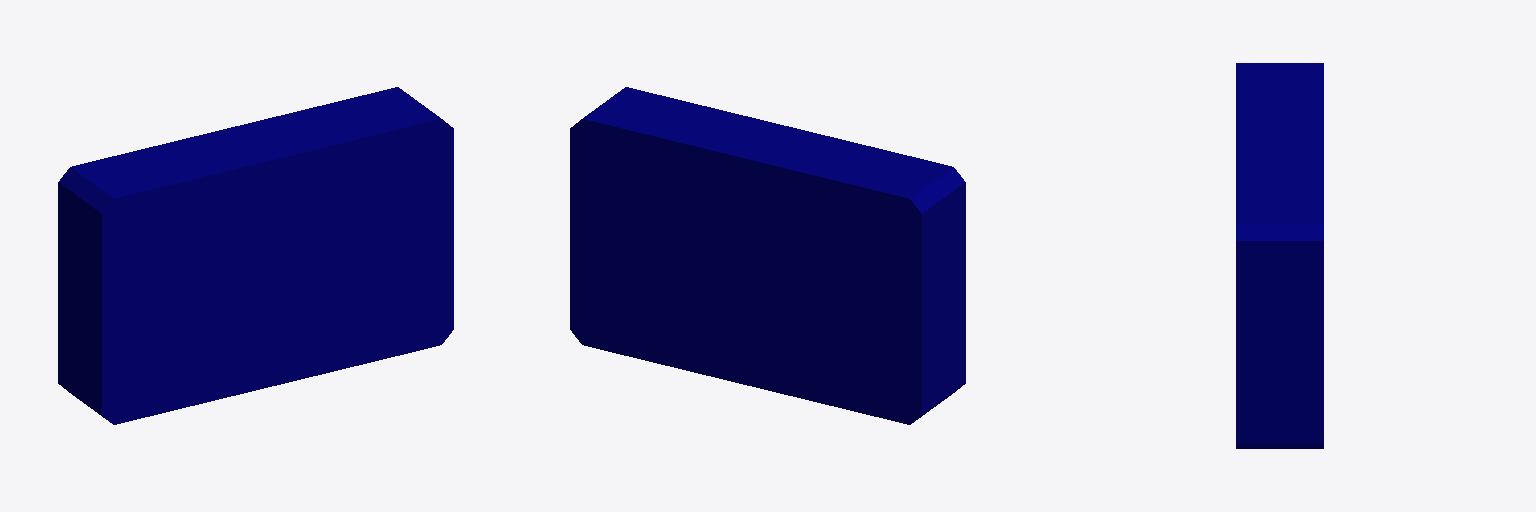
Rendered from RDC1.obj.
3 views of the same model, side by side, from view 1: azimuth 30°, elevation 25°; view 2: azimuth 150°, elevation 25°; view 3: azimuth 270°, elevation 25° (orthographic).
Visible parts, largest first — view 1: RDC001; view 2: RDC001; view 3: RDC001.
Part boxes in pixels (x1,y1,x2,y2): RDC001: (58,87,453,424); RDC001: (570,87,965,424); RDC001: (1236,63,1323,448).
Size of the model in its own units: 5.72 by 3.52 by 1.23.